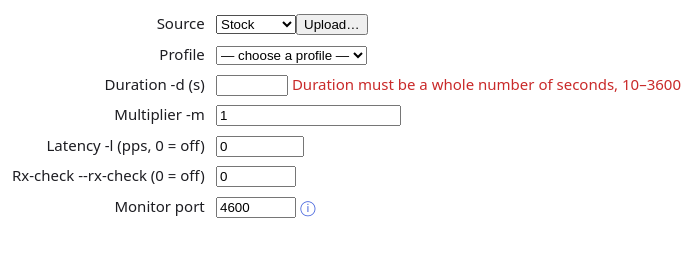
StfRunFields › a profile that cannot be read shows the error and is not valid
Select "cap2/sfr2.yaml" in the dropdown labelled "Profile": (292, 55) [216,46,367,64]
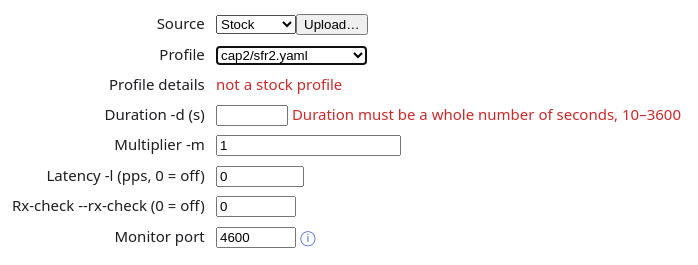
Now the message reads "not a stock profile", box [216,74,342,94]
